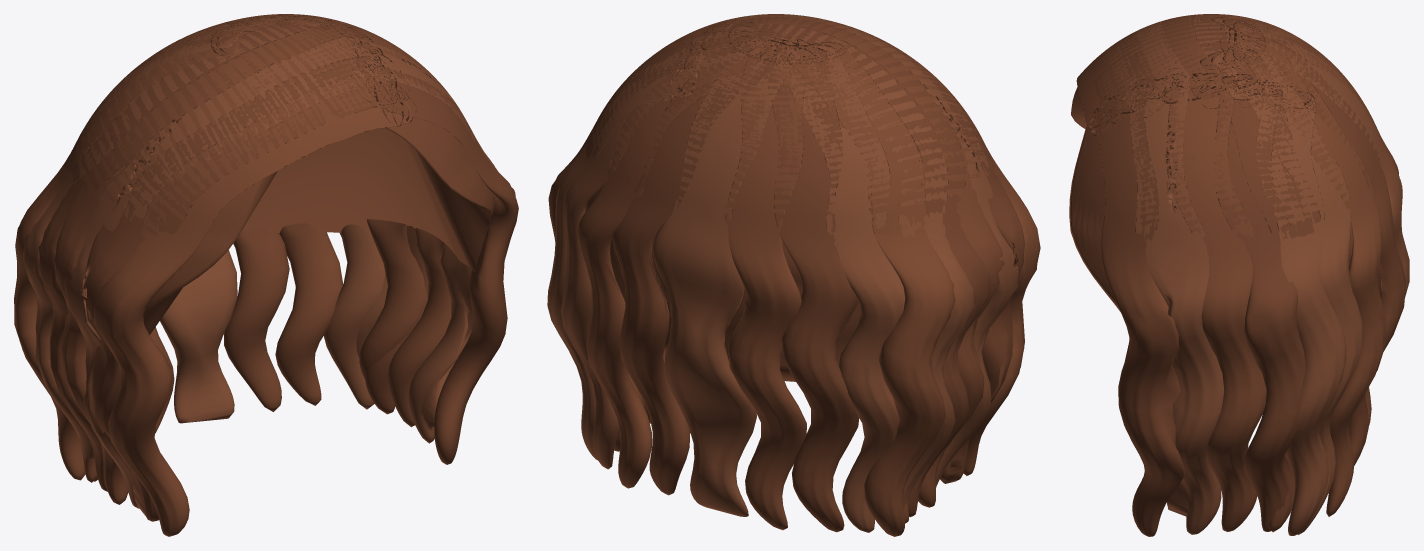
The model's file is Feminine-curls-pashmina-hair.glb.
3 renders of one model, left to right at view 1: azimuth 30°, elevation 25°; view 2: azimuth 150°, elevation 25°; view 3: azimuth 270°, elevation 25°, orthographic. The views are drawn at different scales.
Visible parts, largest first — view 1: 226 hair / Hair / sculpted 0.001, 226 hair / Hair / sculpted 1.002, 226 hair / Hair / sculpted 2.001, 226 hair / Hair / sculpted 1.001; view 2: 226 hair / Hair / sculpted 2.001, 226 hair / Hair / sculpted 0.001, 226 hair / Hair / sculpted 1.002, 226 hair / Hair / sculpted 1.001; view 3: 226 hair / Hair / sculpted 1.002, 226 hair / Hair / sculpted 2.001, 226 hair / Hair / sculpted 0.001, 226 hair / Hair / sculpted 1.001.
Part boxes in pixels (x1,y1,x2,y2): 226 hair / Hair / sculpted 0.001: (14, 14, 451, 536); 226 hair / Hair / sculpted 1.002: (38, 14, 518, 521); 226 hair / Hair / sculpted 2.001: (22, 14, 498, 508); 226 hair / Hair / sculpted 1.001: (111, 63, 494, 334); 226 hair / Hair / sculpted 2.001: (547, 14, 1019, 532); 226 hair / Hair / sculpted 0.001: (577, 14, 1040, 536); 226 hair / Hair / sculpted 1.002: (548, 14, 1025, 532); 226 hair / Hair / sculpted 1.001: (585, 102, 963, 381); 226 hair / Hair / sculpted 1.002: (1090, 14, 1405, 536); 226 hair / Hair / sculpted 2.001: (1106, 14, 1409, 535); 226 hair / Hair / sculpted 0.001: (1076, 14, 1398, 531); 226 hair / Hair / sculpted 1.001: (1069, 87, 1381, 311).
Size of the model in its own units: 1.08 by 1.08 by 0.7673.
